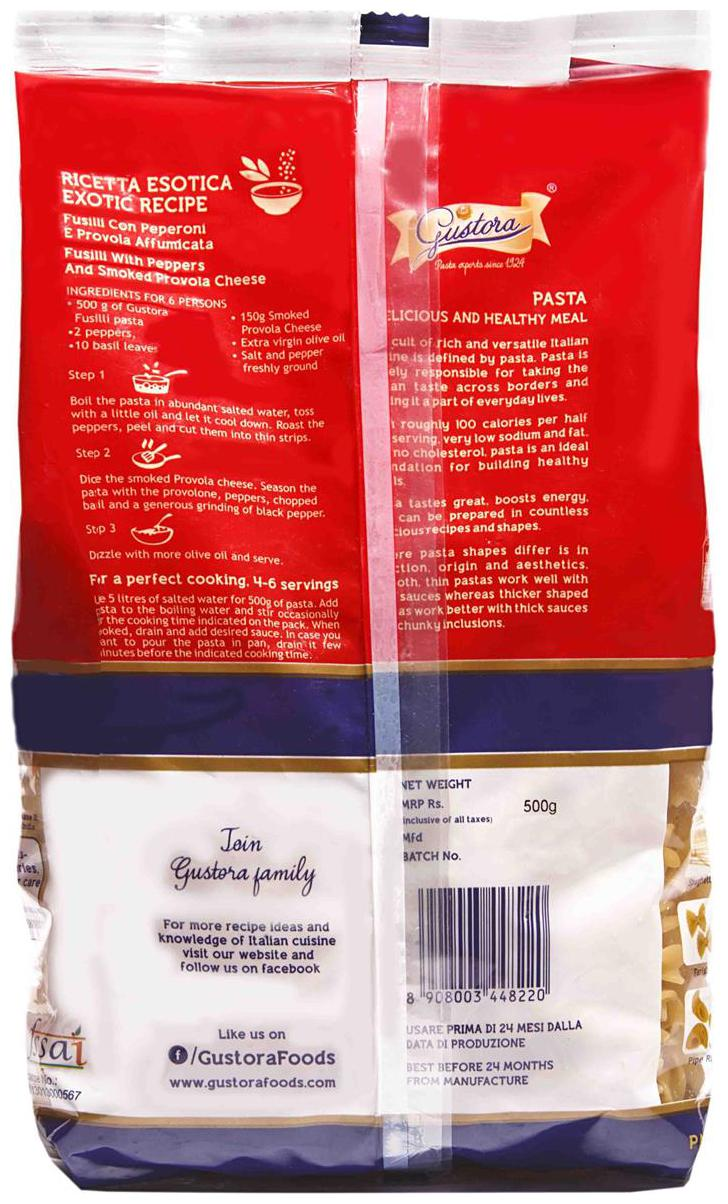fssai: (27, 1016, 89, 1069)
